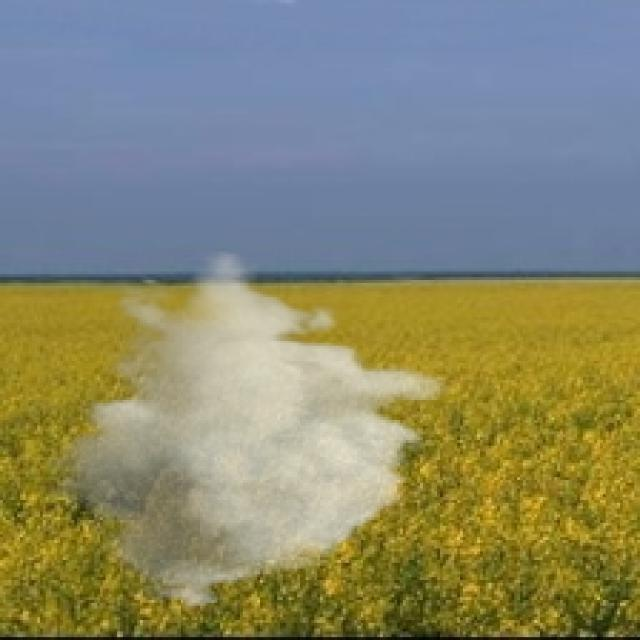smoke: (40, 248, 454, 612)
